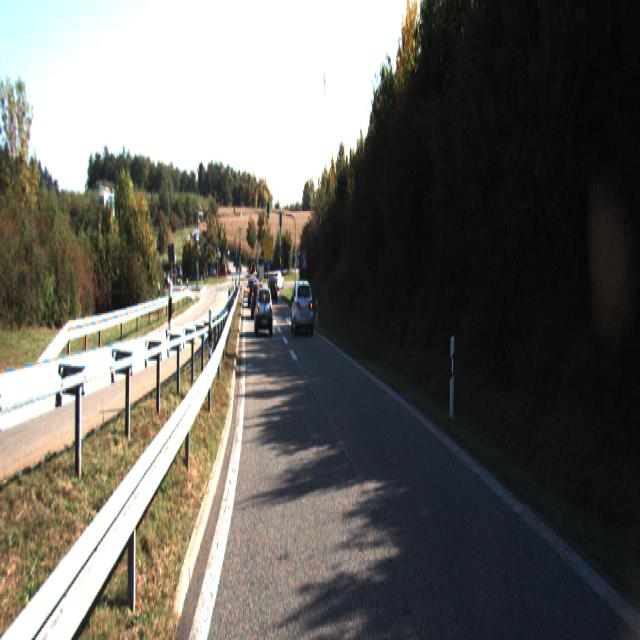Car: (291, 276, 313, 332), (254, 284, 273, 334), (251, 282, 265, 319)
